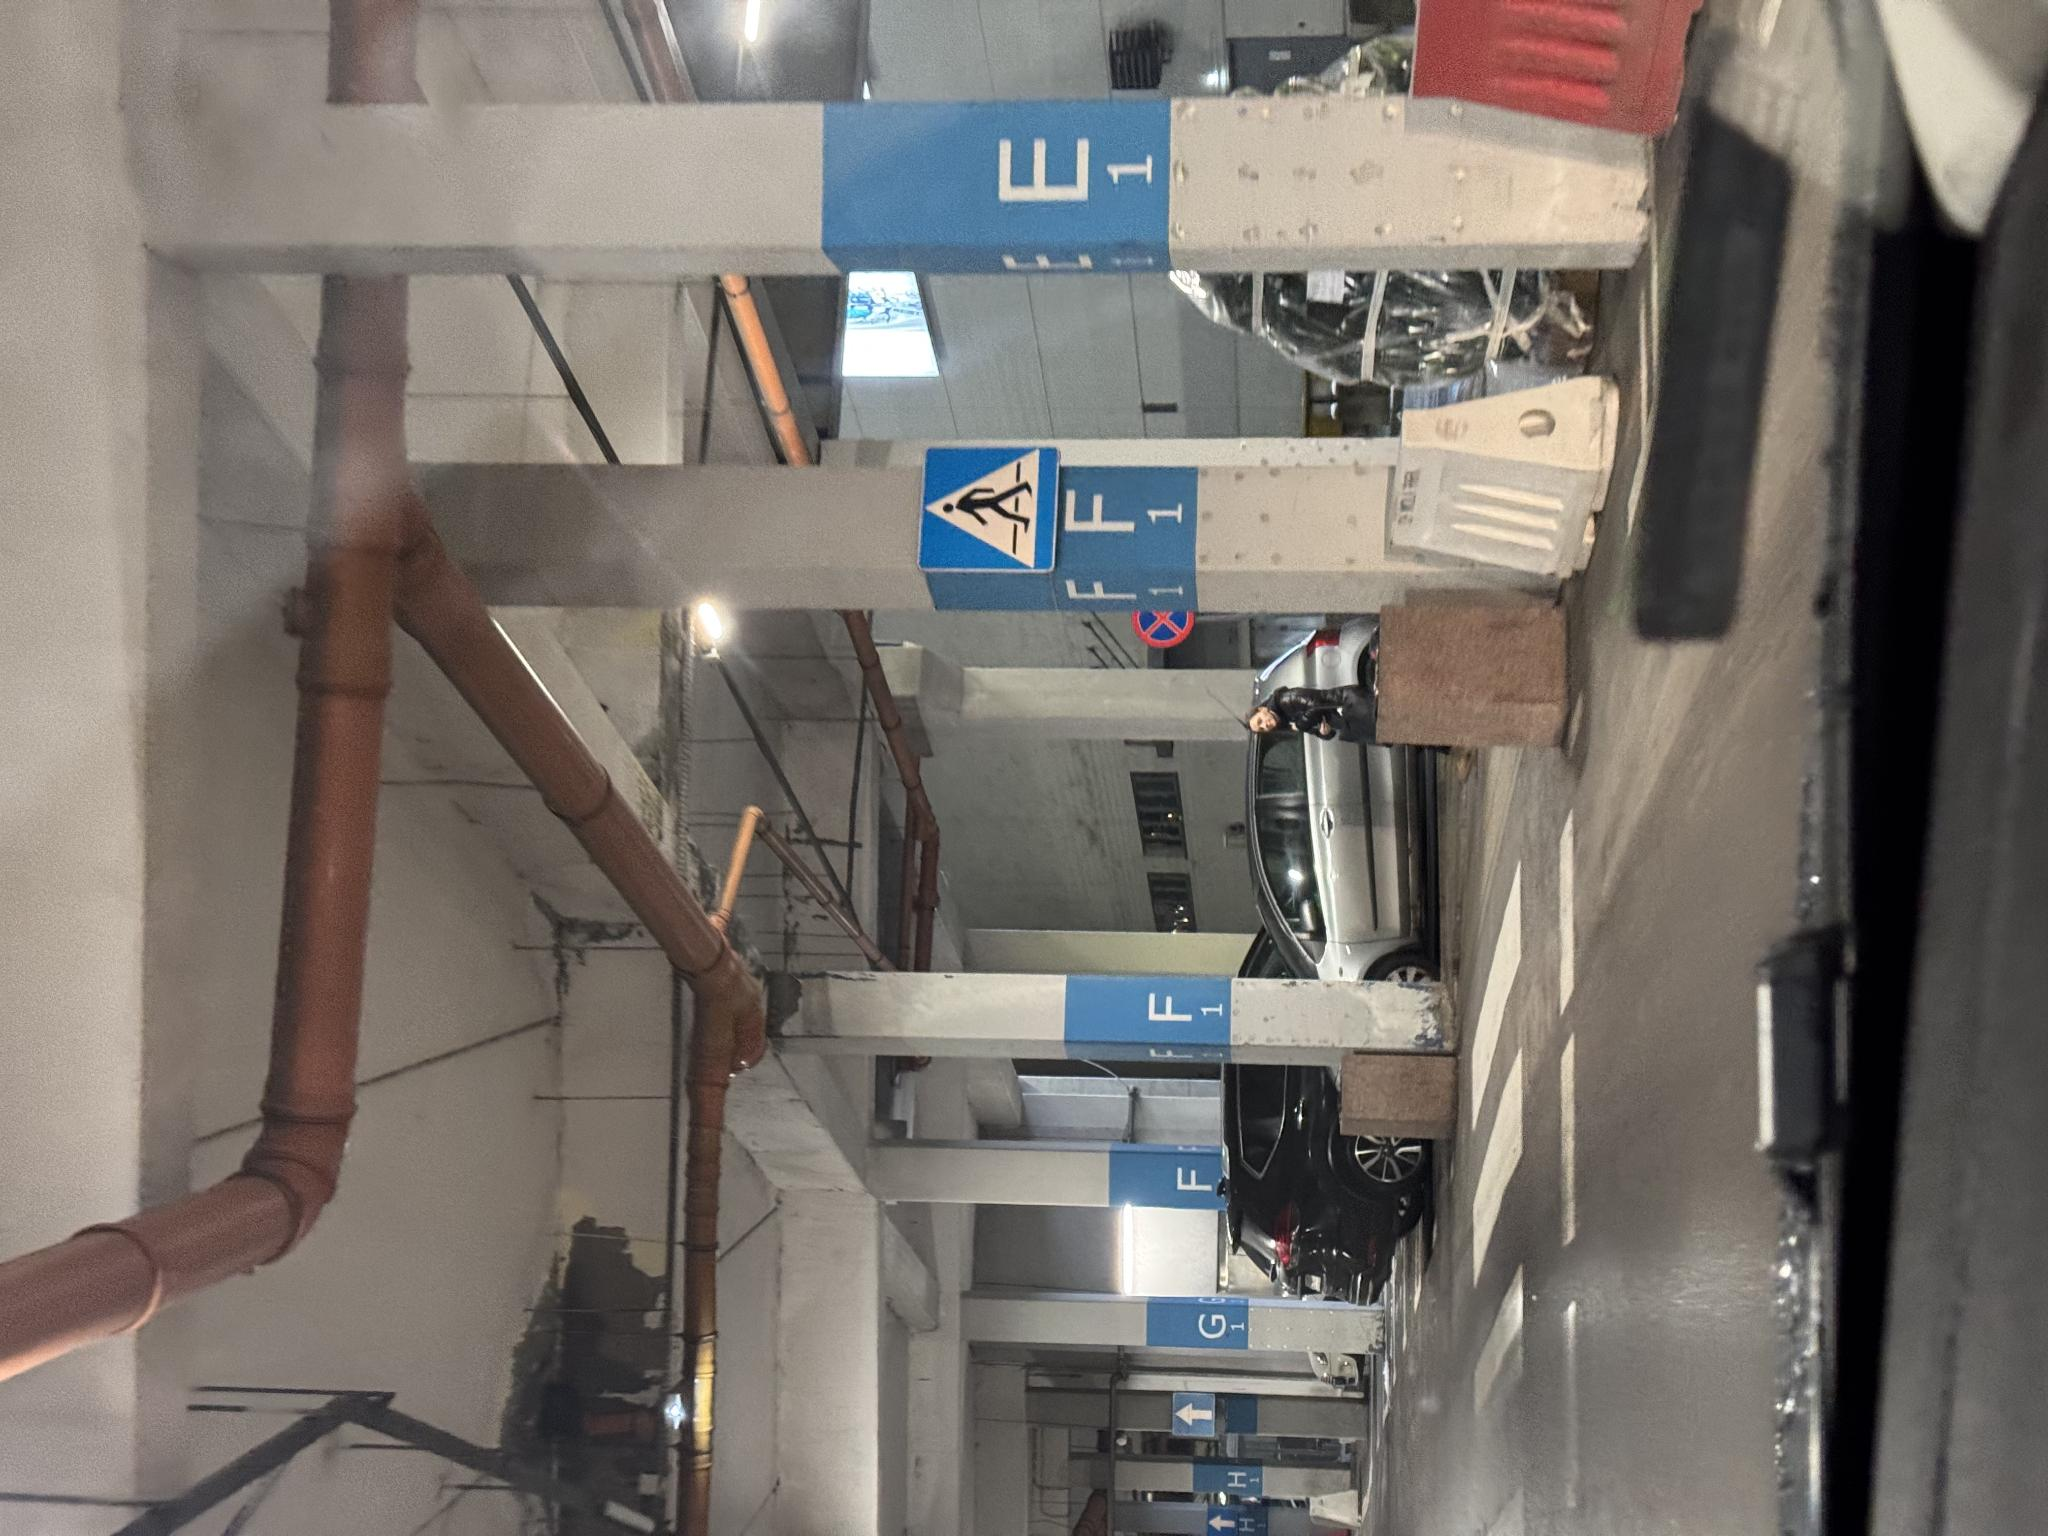information: (959, 915, 1093, 1058), (100, 1171, 142, 1215), (0, 1207, 27, 1238)
prohibitory: (889, 1129, 926, 1194)
